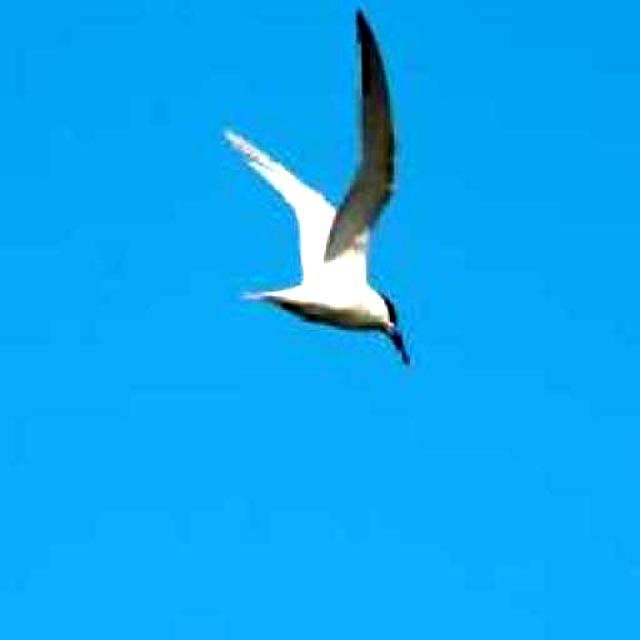airplane: (221, 12, 415, 370)
